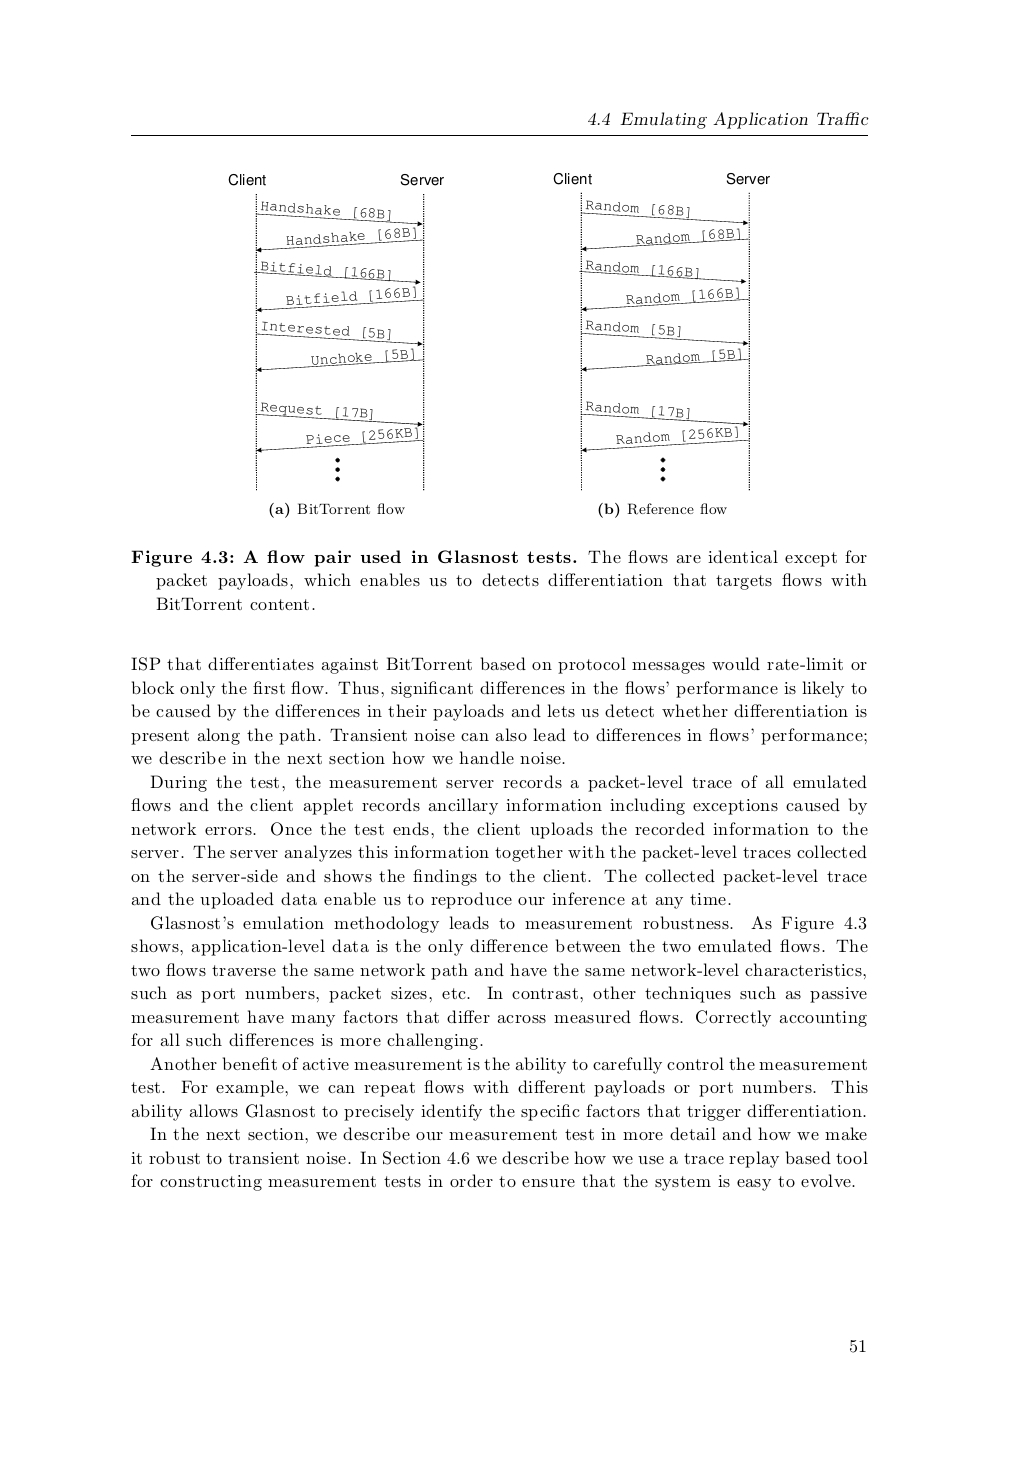figure: (553, 172, 769, 490), (228, 173, 443, 490)
